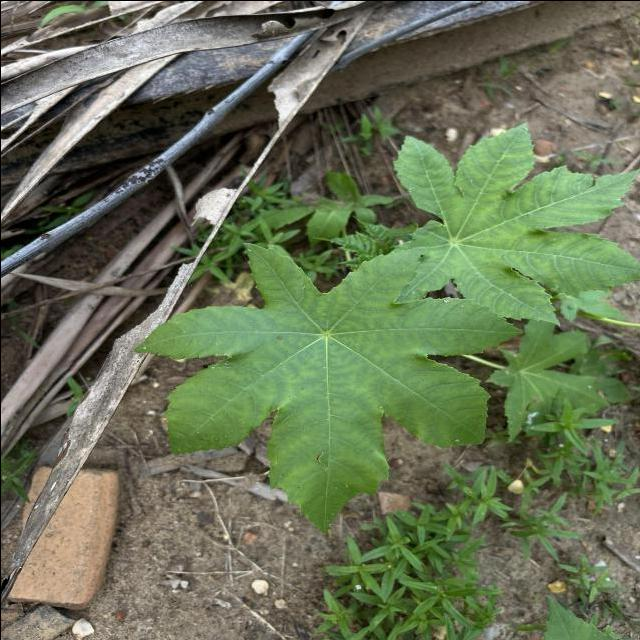Ricinus communis linn: (127, 237, 526, 538)
